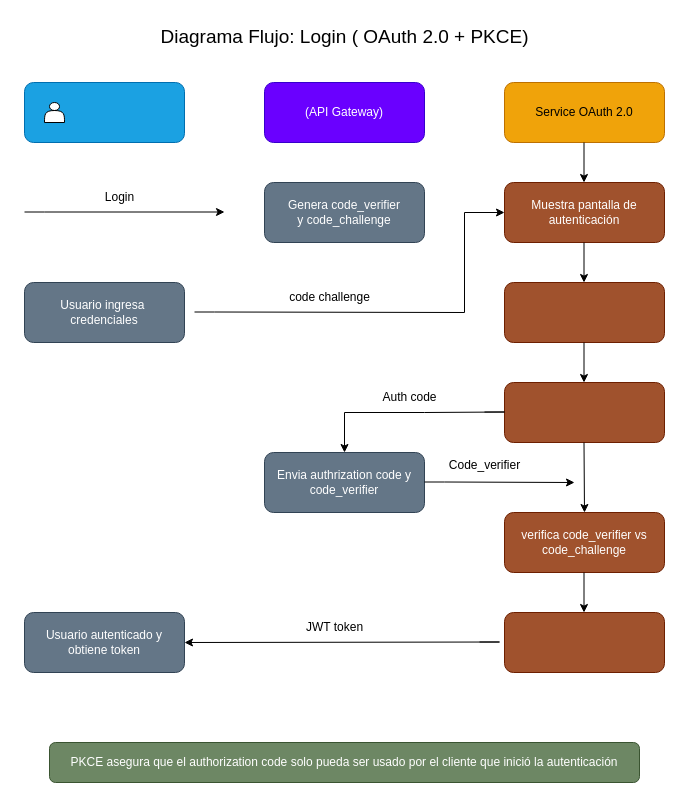
This 682x800 diagram has some shape labels left out. The shapes that lost their labels are listed below. From the top down, each one's box as (x1, y1, x2, y2) in pixels, then its label:
(24, 82, 184, 142): Usuario (Web/Móvil)
(504, 282, 664, 342): Valida credenciales y autentica usuario
(504, 382, 664, 442): Redirige con authorization code
(504, 612, 664, 672): Emite tokens (Access Token + Refresh Token)
